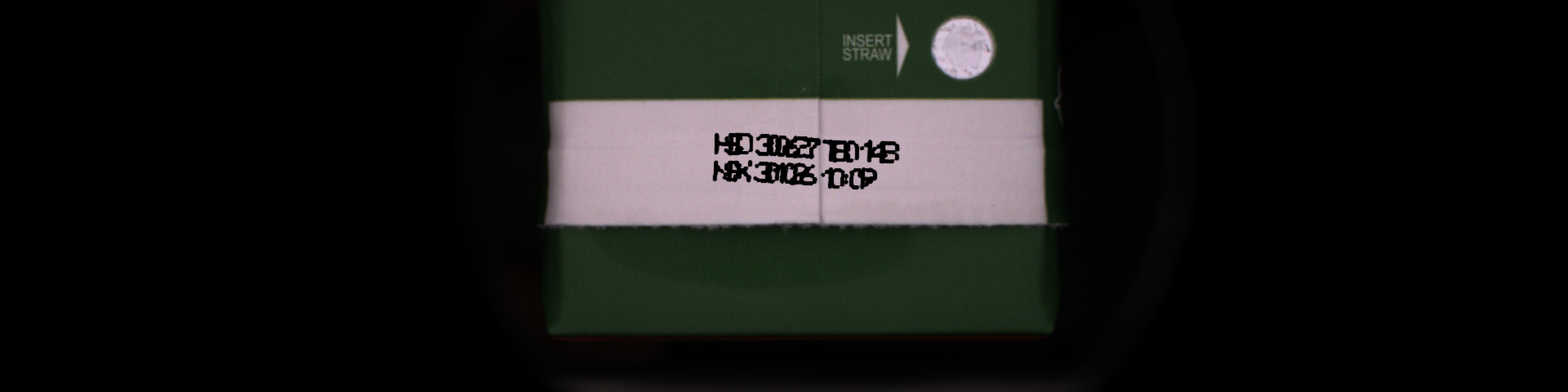date: (865, 137, 890, 166), (877, 138, 902, 167), (732, 157, 756, 186), (855, 165, 879, 194), (709, 157, 734, 184), (722, 130, 746, 158), (800, 134, 824, 161), (790, 133, 813, 161), (818, 136, 841, 164), (798, 160, 820, 189), (712, 130, 735, 157), (830, 138, 852, 166), (787, 160, 809, 188), (752, 159, 774, 186), (781, 134, 801, 162), (764, 131, 783, 160), (753, 131, 774, 157), (840, 138, 861, 164), (722, 158, 743, 184), (734, 130, 754, 157), (763, 158, 782, 186), (858, 137, 876, 166), (827, 165, 847, 191), (847, 166, 866, 193), (780, 159, 798, 187), (773, 133, 790, 160), (819, 165, 836, 192), (773, 160, 788, 187), (839, 167, 854, 190)
